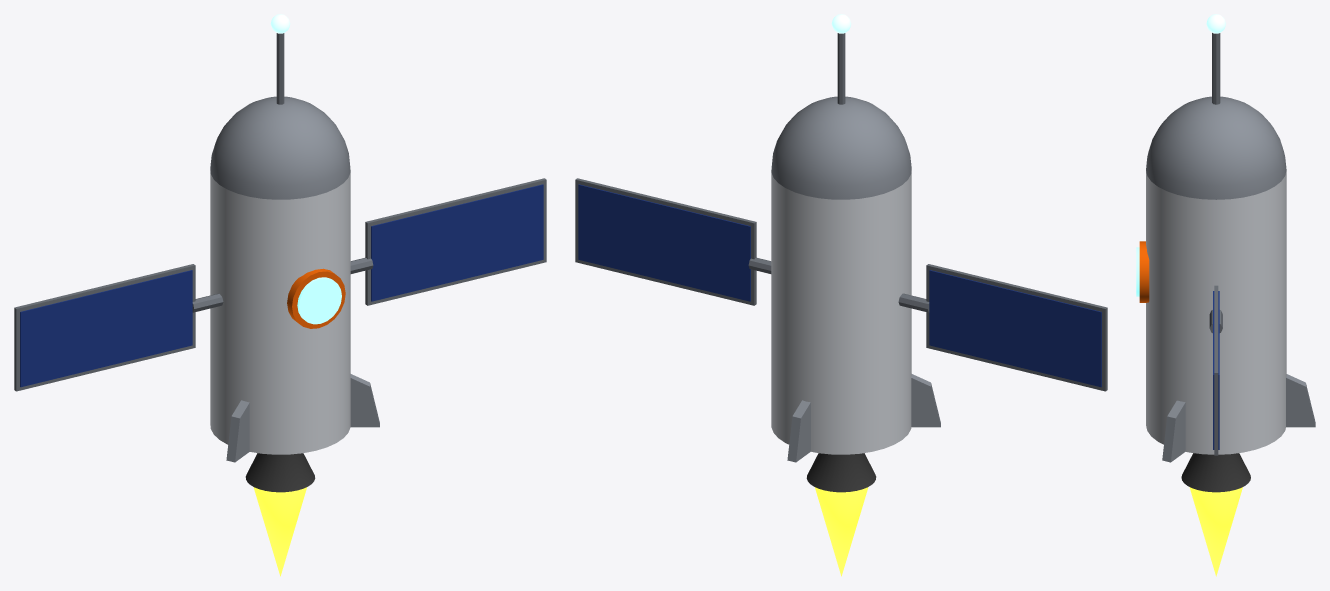
Rendered from Rocket_12_SolarSat.fbx.
The picture shows the model from 3 angles, left to right: view 1: azimuth 30°, elevation 25°; view 2: azimuth 150°, elevation 25°; view 3: azimuth 270°, elevation 25°; orthographic projection.
Parts seen in each view (by area): view 1: R12_Body, R12_Panel_2, R12_Panel_1, R12_Nose, R12_PanelFrame_2, R12_PanelFrame_1, R12_Flame_1, R12_Nozzle_1, R12_Window_1, R12_Fin_3, R12_WindowFrame_1, R12_Fin_2; view 2: R12_Body, R12_Panel_2, R12_Panel_1, R12_Nose, R12_PanelFrame_2, R12_PanelFrame_1, R12_Flame_1, R12_Nozzle_1, R12_Fin_2, R12_Fin_1; view 3: R12_Body, R12_Nose, R12_Flame_1, R12_Nozzle_1, R12_Fin_1, R12_Fin_3, R12_PanelFrame_1, R12_Antenna, R12_Panel_1, R12_WindowFrame_1, R12_AntennaTip.
Boxes of the visible parts, left/top/right/bottom form: R12_Body: left=210, top=171, right=350, bottom=454; R12_Panel_2: left=20, top=270, right=192, bottom=387; R12_Panel_1: left=371, top=184, right=543, bottom=301; R12_Nose: left=210, top=96, right=350, bottom=199; R12_PanelFrame_2: left=14, top=264, right=195, bottom=391; R12_PanelFrame_1: left=365, top=178, right=546, bottom=305; R12_Flame_1: left=253, top=487, right=306, bottom=576; R12_Nozzle_1: left=245, top=453, right=315, bottom=492; R12_Window_1: left=297, top=277, right=341, bottom=324; R12_Fin_3: left=350, top=374, right=379, bottom=427; R12_WindowFrame_1: left=287, top=268, right=345, bottom=328; R12_Fin_2: left=226, top=400, right=249, bottom=462; R12_Body: left=771, top=171, right=911, bottom=454; R12_Panel_2: left=929, top=270, right=1101, bottom=387; R12_Panel_1: left=578, top=184, right=750, bottom=301; R12_Nose: left=771, top=96, right=911, bottom=199; R12_PanelFrame_2: left=926, top=264, right=1107, bottom=391; R12_PanelFrame_1: left=575, top=178, right=756, bottom=305; R12_Flame_1: left=815, top=487, right=868, bottom=576; R12_Nozzle_1: left=806, top=453, right=876, bottom=492; R12_Fin_2: left=911, top=374, right=940, bottom=427; R12_Fin_1: left=787, top=400, right=810, bottom=462; R12_Body: left=1146, top=171, right=1286, bottom=454; R12_Nose: left=1146, top=96, right=1286, bottom=199; R12_Flame_1: left=1189, top=487, right=1242, bottom=576; R12_Nozzle_1: left=1181, top=453, right=1250, bottom=492; R12_Fin_1: left=1286, top=374, right=1315, bottom=427; R12_Fin_3: left=1162, top=400, right=1185, bottom=462; R12_PanelFrame_1: left=1214, top=285, right=1218, bottom=455; R12_Antenna: left=1212, top=33, right=1220, bottom=104; R12_Panel_1: left=1213, top=291, right=1219, bottom=449; R12_WindowFrame_1: left=1139, top=241, right=1149, bottom=302; R12_AntennaTip: left=1206, top=14, right=1225, bottom=33.
Bounding box in the file's own units: 7.4 × 7.5 × 2.17.
